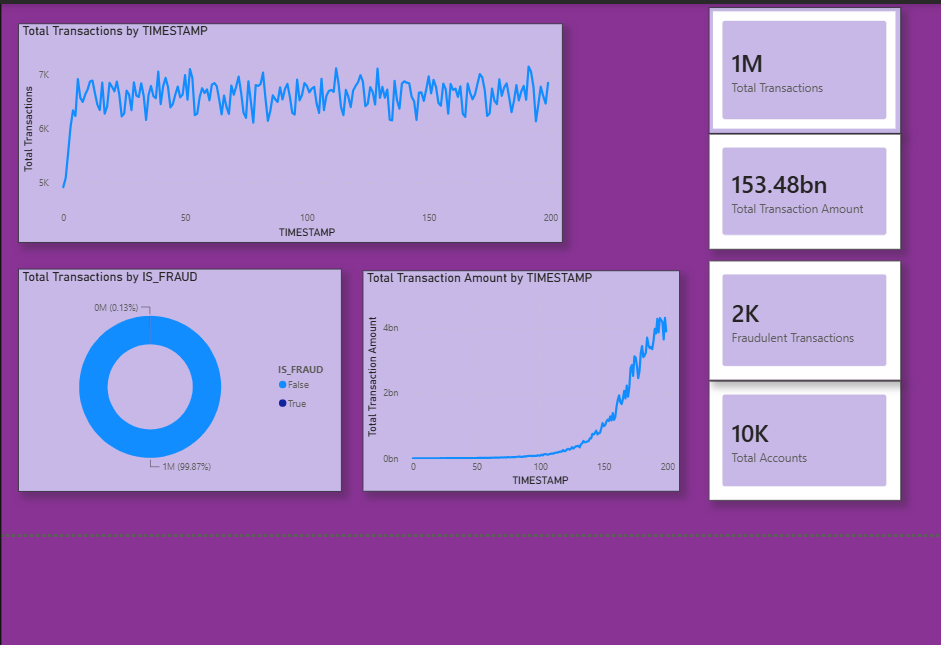

What the dashboard file says about the page in this screenshot:
{"tool":"powerbi","page":{"name":"Page 1","canvas":[1280,720],"ordinal":0},"visuals":[{"type":"cardVisual","fields":{"Data":["transactions.Total Transactions"]},"box":[960.5,4.4,260.8,172],"z":0},{"type":"cardVisual","fields":{"Data":["transactions.Total Transaction Amount"]},"box":[960.5,176.6,260.8,156.9],"z":1000},{"type":"cardVisual","fields":{"Data":["accounts.Total Accounts"]},"box":[960.5,512.3,260.8,162.5],"z":2000},{"type":"cardVisual","fields":{"Data":["transactions.Fraudulent Transactions"]},"box":[960.5,348.9,260.8,162.5],"z":3000},{"type":"lineChart","fields":{"Category":["transactions.TIMESTAMP"],"Y":["transactions.Total Transactions"]},"box":[22.1,26.5,739.7,298.1],"z":4000},{"type":"lineChart","fields":{"Category":["transactions.TIMESTAMP"],"Y":["transactions.Total Transaction Amount"]},"box":[490.2,362.1,430.6,300.3],"z":5000},{"type":"donutChart","fields":{"Category":["transactions.IS_FRAUD"],"Y":["transactions.Total Transactions"]},"box":[22.1,359.9,439.4,302.5],"z":6000}]}

Visuals, with their boxes in screenshot pixels (x1, y1, x2, y2):
cardVisual - transactions.Total Transactions: (left=709, top=8, right=898, bottom=133)
cardVisual - transactions.Total Transaction Amount: (left=709, top=133, right=898, bottom=247)
cardVisual - accounts.Total Accounts: (left=709, top=376, right=898, bottom=494)
cardVisual - transactions.Fraudulent Transactions: (left=709, top=258, right=898, bottom=376)
lineChart - transactions.TIMESTAMP x transactions.Total Transactions: (left=28, top=24, right=565, bottom=240)
lineChart - transactions.TIMESTAMP x transactions.Total Transaction Amount: (left=368, top=267, right=680, bottom=485)
donutChart - transactions.IS_FRAUD x transactions.Total Transactions: (left=28, top=266, right=347, bottom=485)
